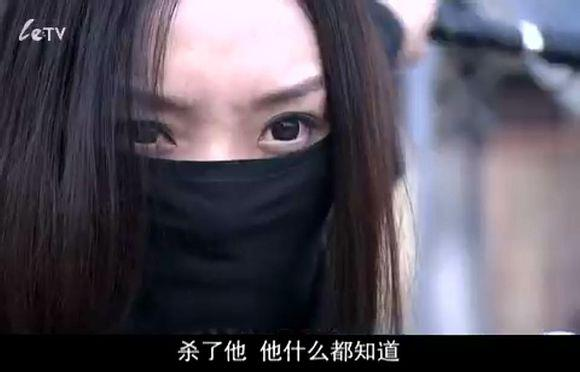OK: (90, 62, 335, 307)
